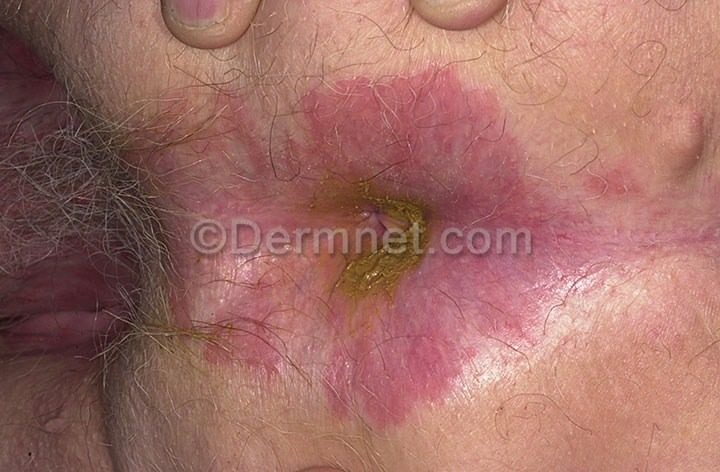Psoriasis: (221, 272, 513, 418), (260, 73, 546, 190)
